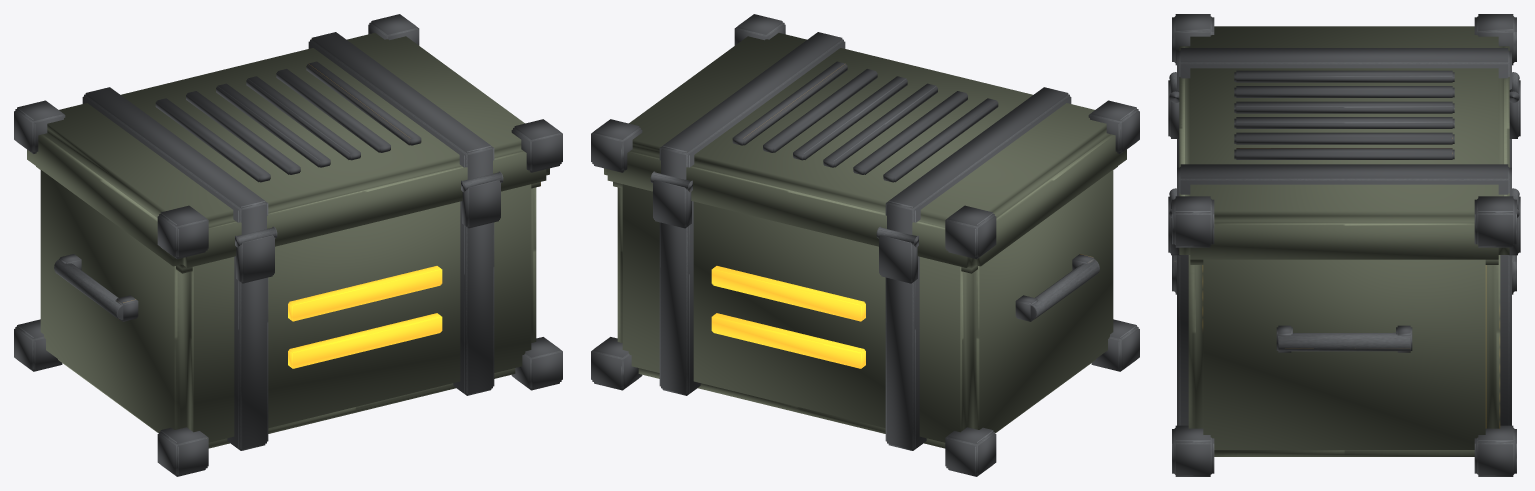
Rendered from SM_Crate_Ammo.glb.
The picture shows the model from 3 angles, left to right: view 1: azimuth 30°, elevation 25°; view 2: azimuth 150°, elevation 25°; view 3: azimuth 270°, elevation 25°; orthographic projection. The views are drawn at different scales.
Visible parts, largest first — view 1: SM_Crate_Ammo; view 2: SM_Crate_Ammo; view 3: SM_Crate_Ammo.
Boxes of the visible parts, x1,y1,x2,y2 form: SM_Crate_Ammo: [14, 14, 562, 476]; SM_Crate_Ammo: [591, 14, 1139, 476]; SM_Crate_Ammo: [1168, 14, 1520, 476].
Size of the model in its own units: 0.5396 by 0.321 by 0.384.
Materials: 1 (1 with a texture image).
